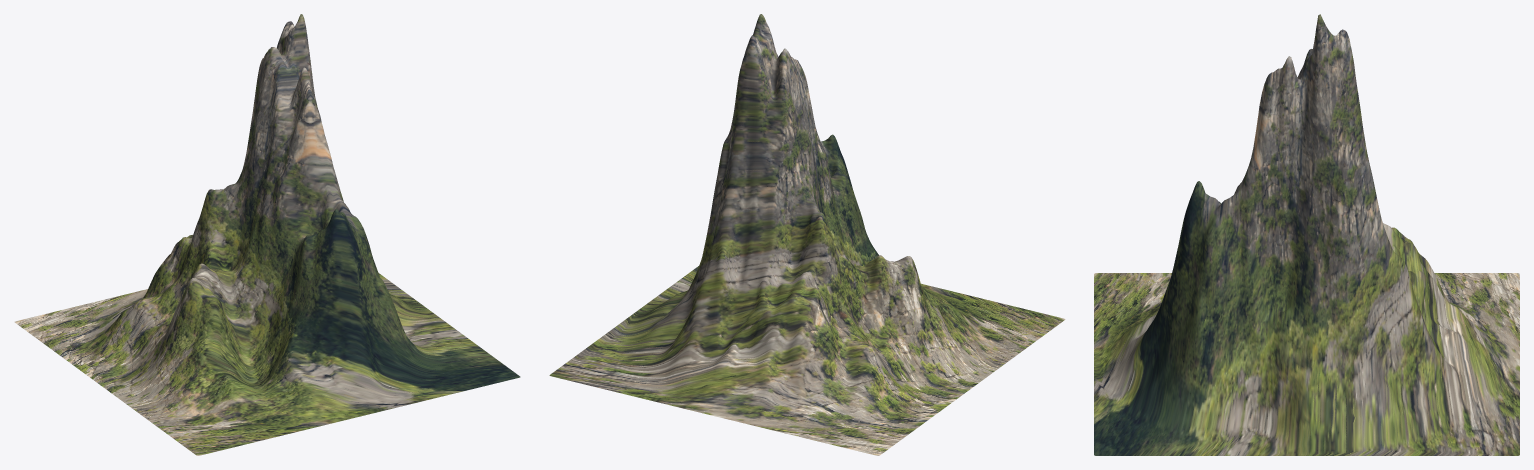
File: MountainRange_UW.dae
3 renders of one model, left to right at view 1: azimuth 30°, elevation 25°; view 2: azimuth 150°, elevation 25°; view 3: azimuth 270°, elevation 25°, orthographic. The views are drawn at different scales.
Visible parts, largest first — view 1: Landscape; view 2: Landscape; view 3: Landscape.
Part boxes in pixels (box(x1,y1,x2,y2)): Landscape: box(14, 14, 520, 455); Landscape: box(549, 14, 1065, 455); Landscape: box(1094, 14, 1519, 455).
Bounding box in the file's own units: 347 × 341 × 329.
Materials: 1 (1 with a texture image).
